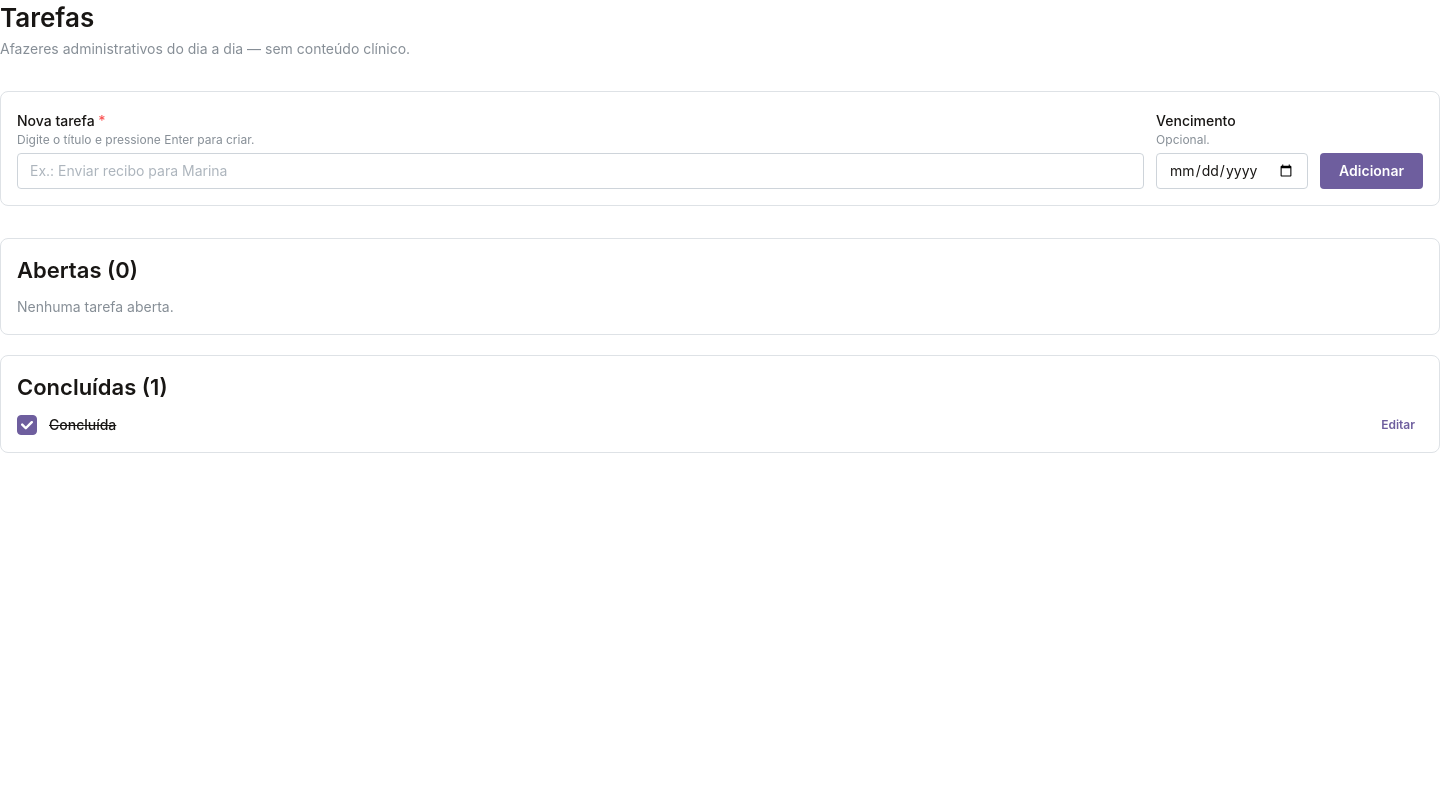
TasksPage — edição posterior de título/vencimento › editar título de uma tarefa concluída preserva a conclusão (não reabre)
Click the button with test id "task-edit-t1" at (1398, 426), box [1373,414,1423,436]
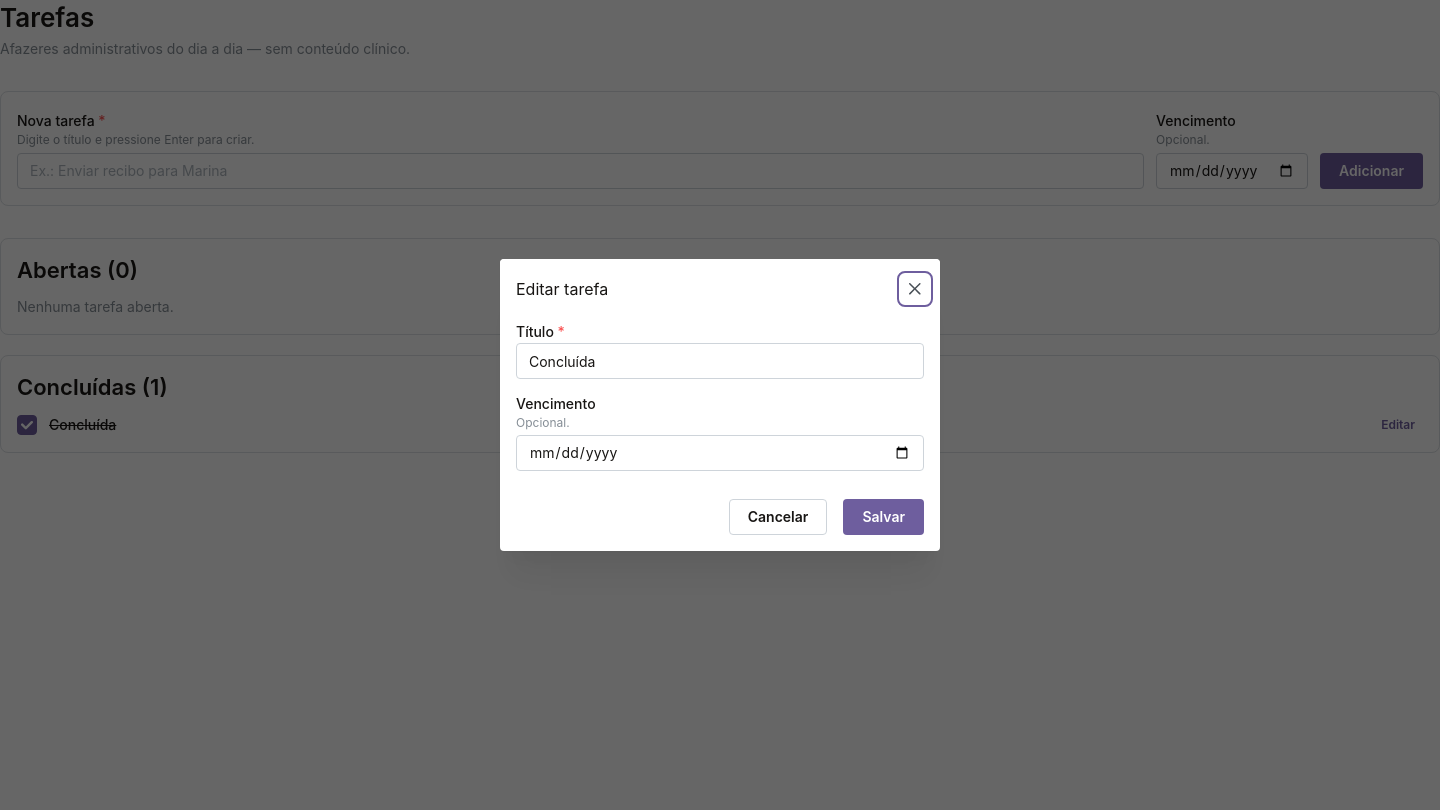
Replace the text in the field labelled "Título" with "Concluída editada" at (720, 361), box [516,343,924,379]
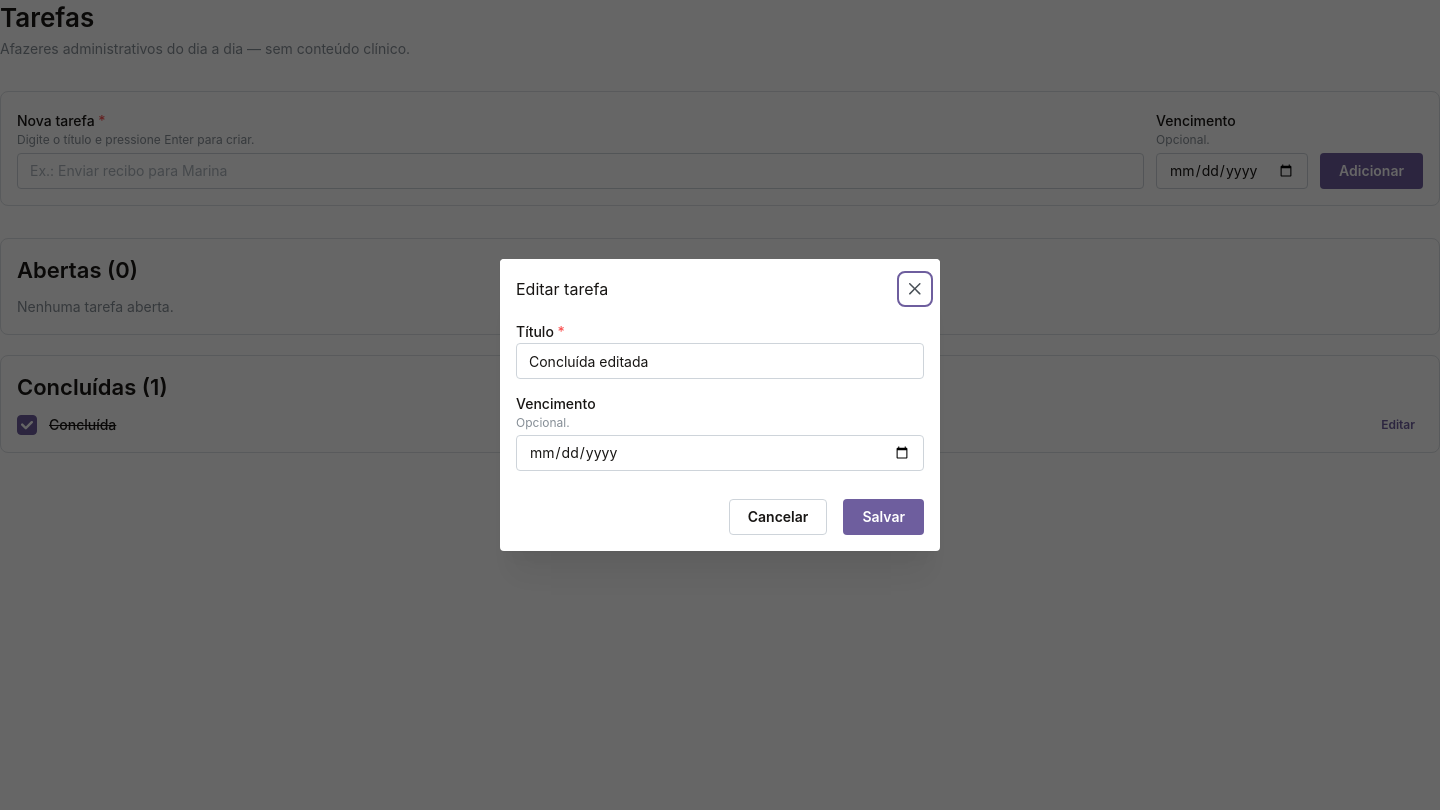
Click the button with test id "confirm-edit-task" at (884, 518), box [843,500,924,536]
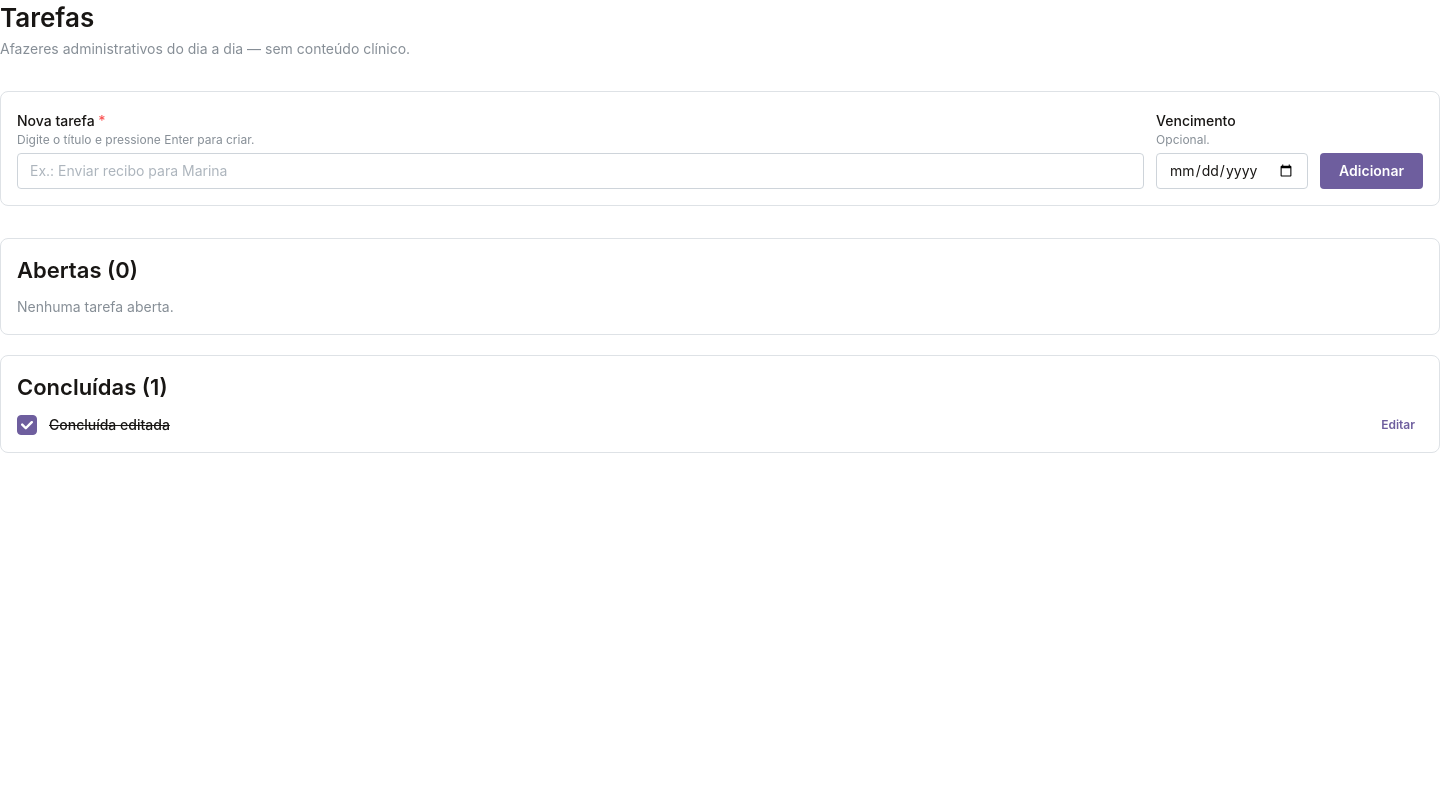
Expected: the text "Concluída editada" is shown, [49,415,170,436]
